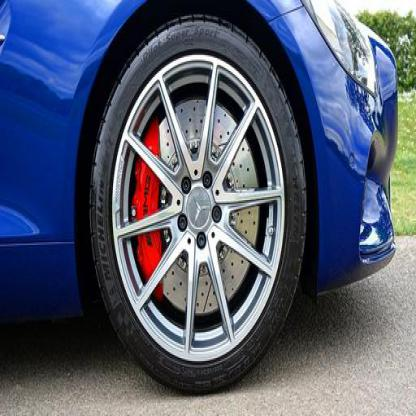Tire: (88, 15, 310, 394)
